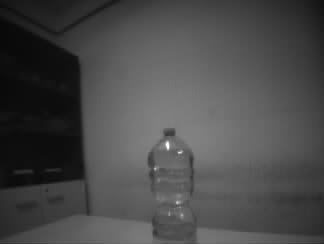Bottle: (146, 126, 198, 244)
